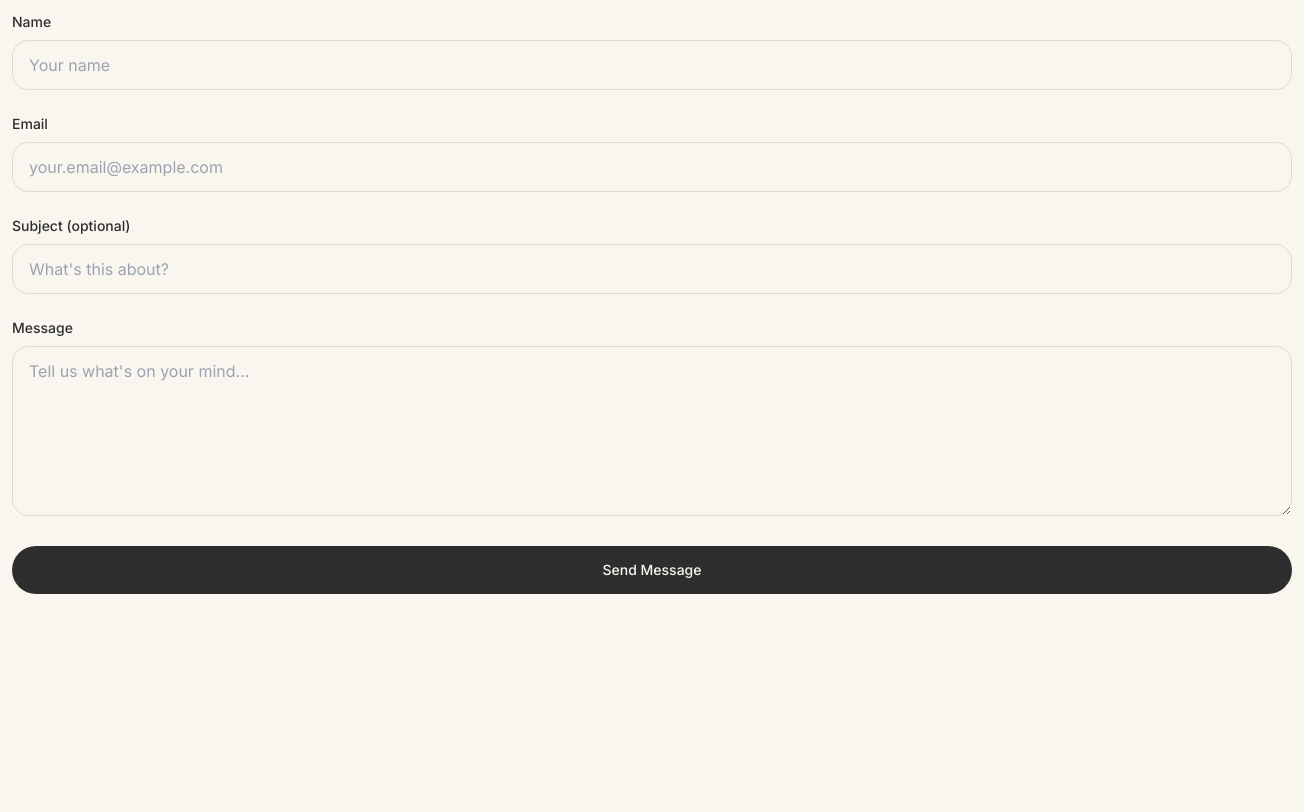
Scenario: ContactForm › confirms the message once the function answers 2xx, and clears the form
This screenshot has width=1304, height=812.
Step 1. Type "Ada" into the field labelled "Name" → (652, 65), box [12,40,1292,90]
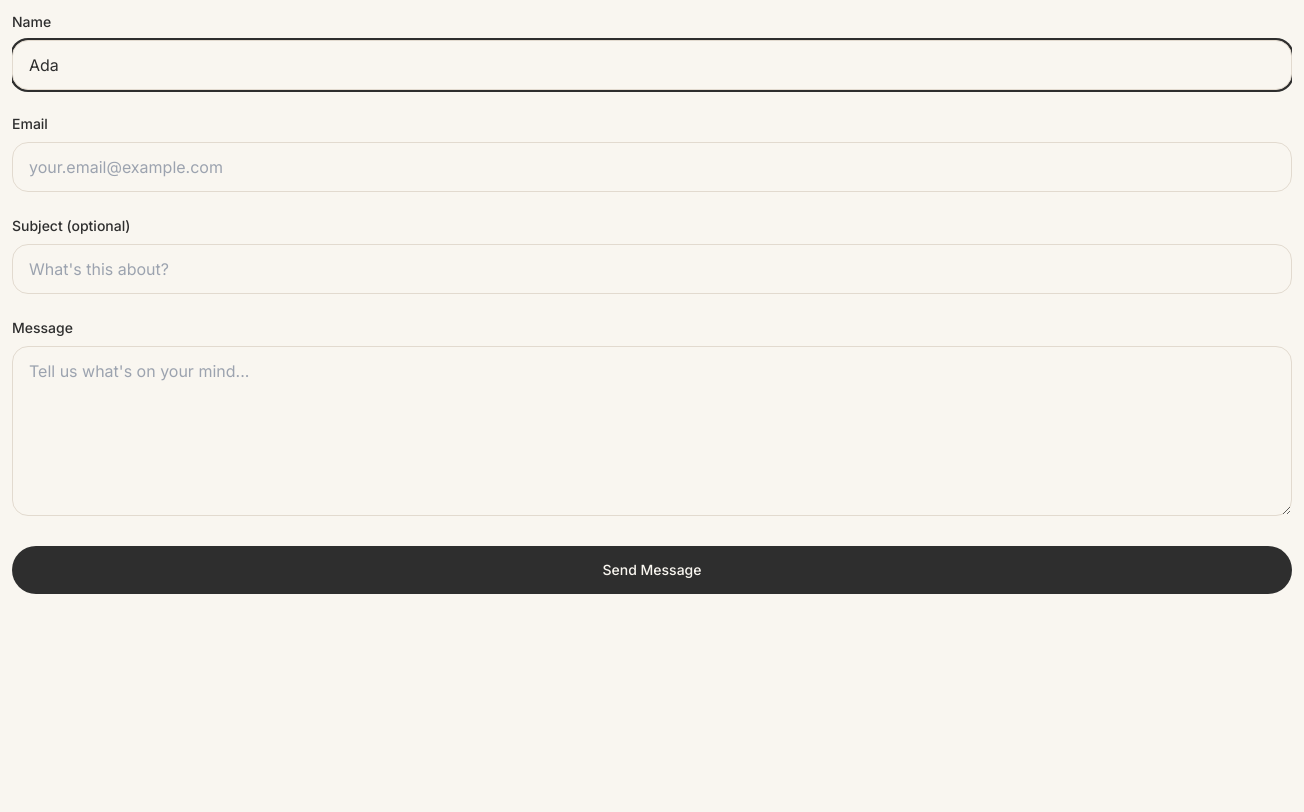
Step 2. Type "ada@example.com" into the field labelled "Email" → (652, 167), box [12,142,1292,192]
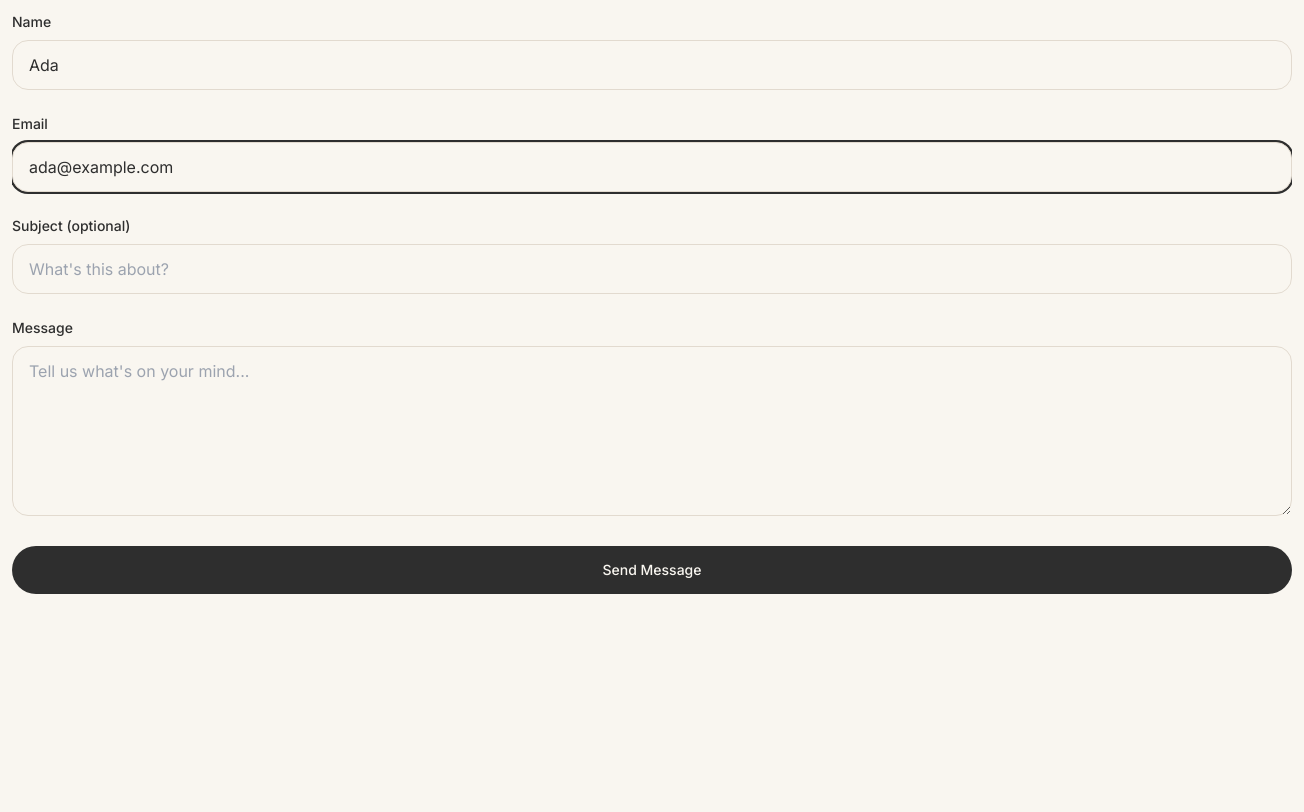
Step 3. Type "Hello" into the field labelled "Subject (optional)" → (652, 269), box [12,244,1292,294]
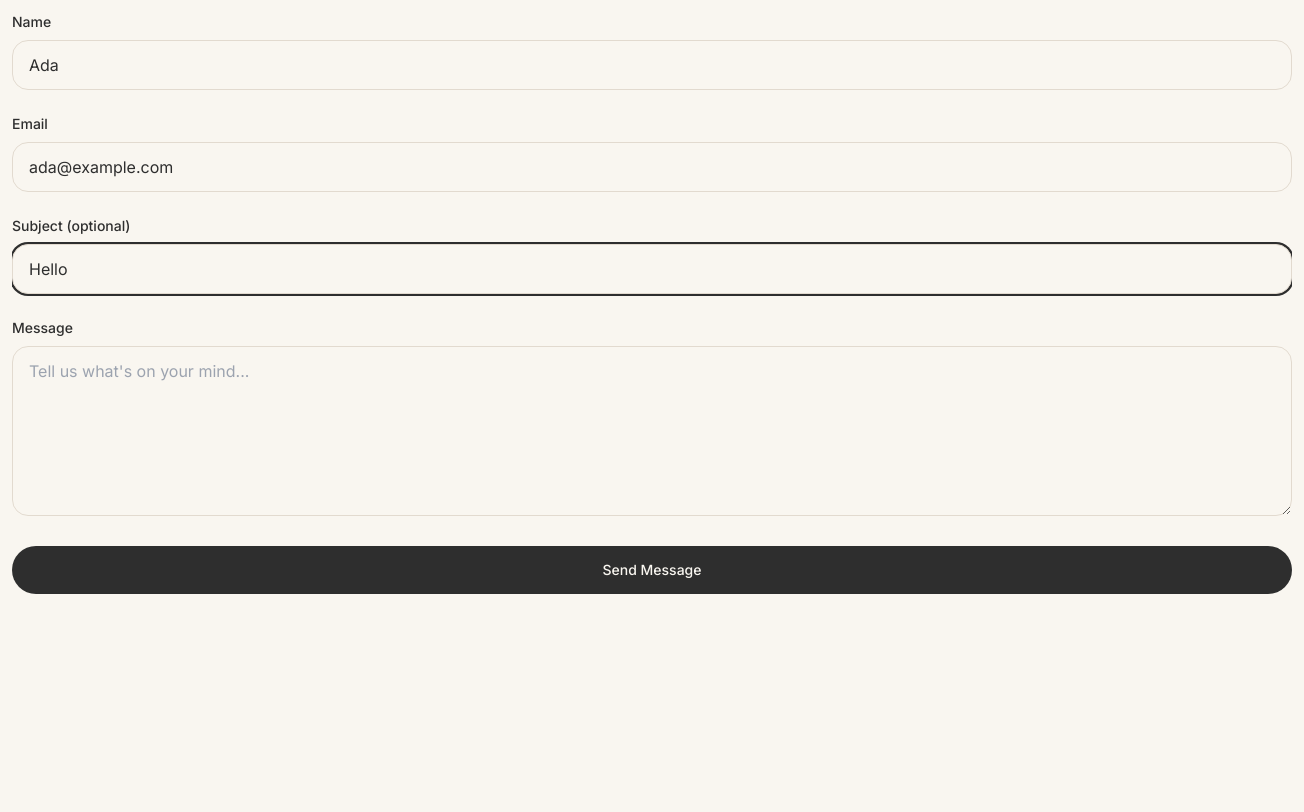
Step 4. Type "Lovely site." into the text box labelled "Message" → (652, 431), box [12,346,1292,516]
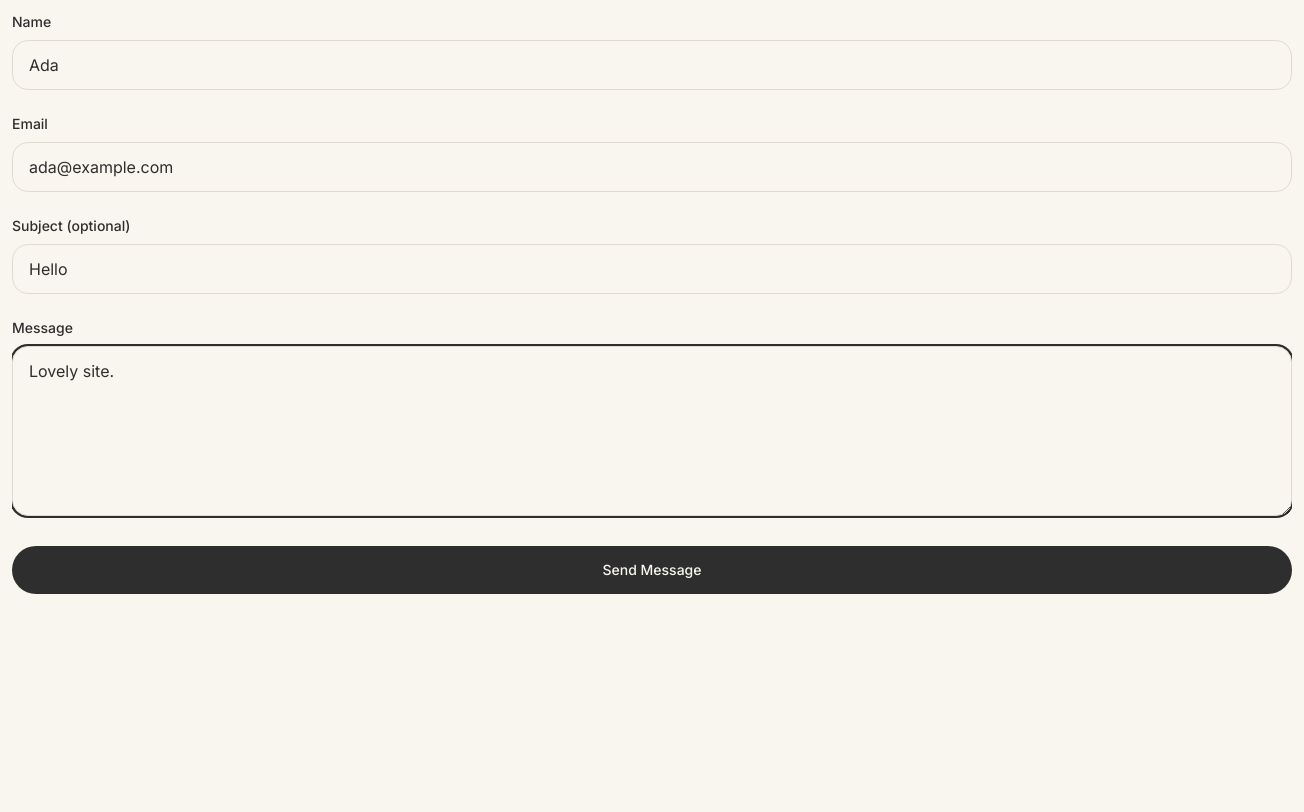
Step 5. Click the button "Send Message" → (652, 570), box [12,546,1292,594]
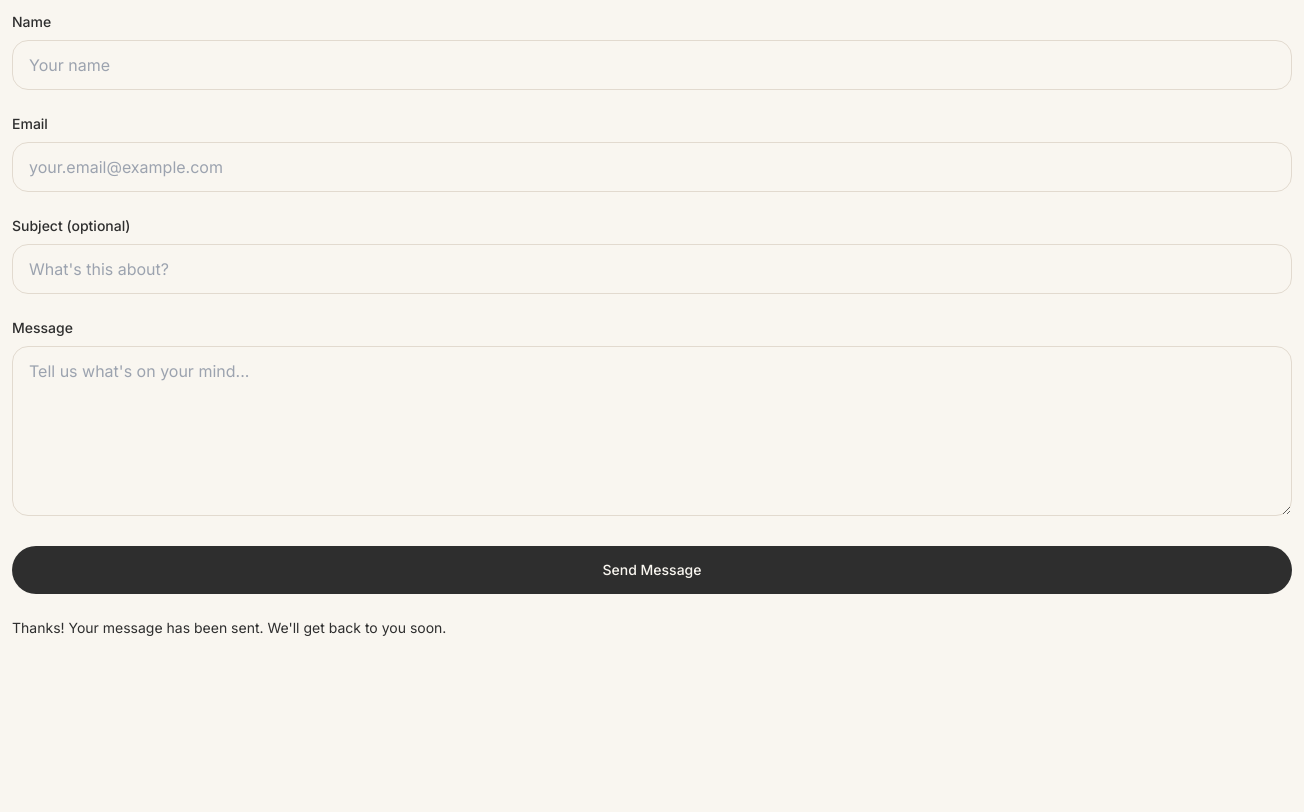
Expected: the text "Thanks! Your message has been sent. We'll get back to you soon." is shown, [12,619,446,636]
Expected: the field labelled "Name" is empty, [12,40,1292,90]
Expected: the text box labelled "Message" is empty, [12,346,1292,516]
